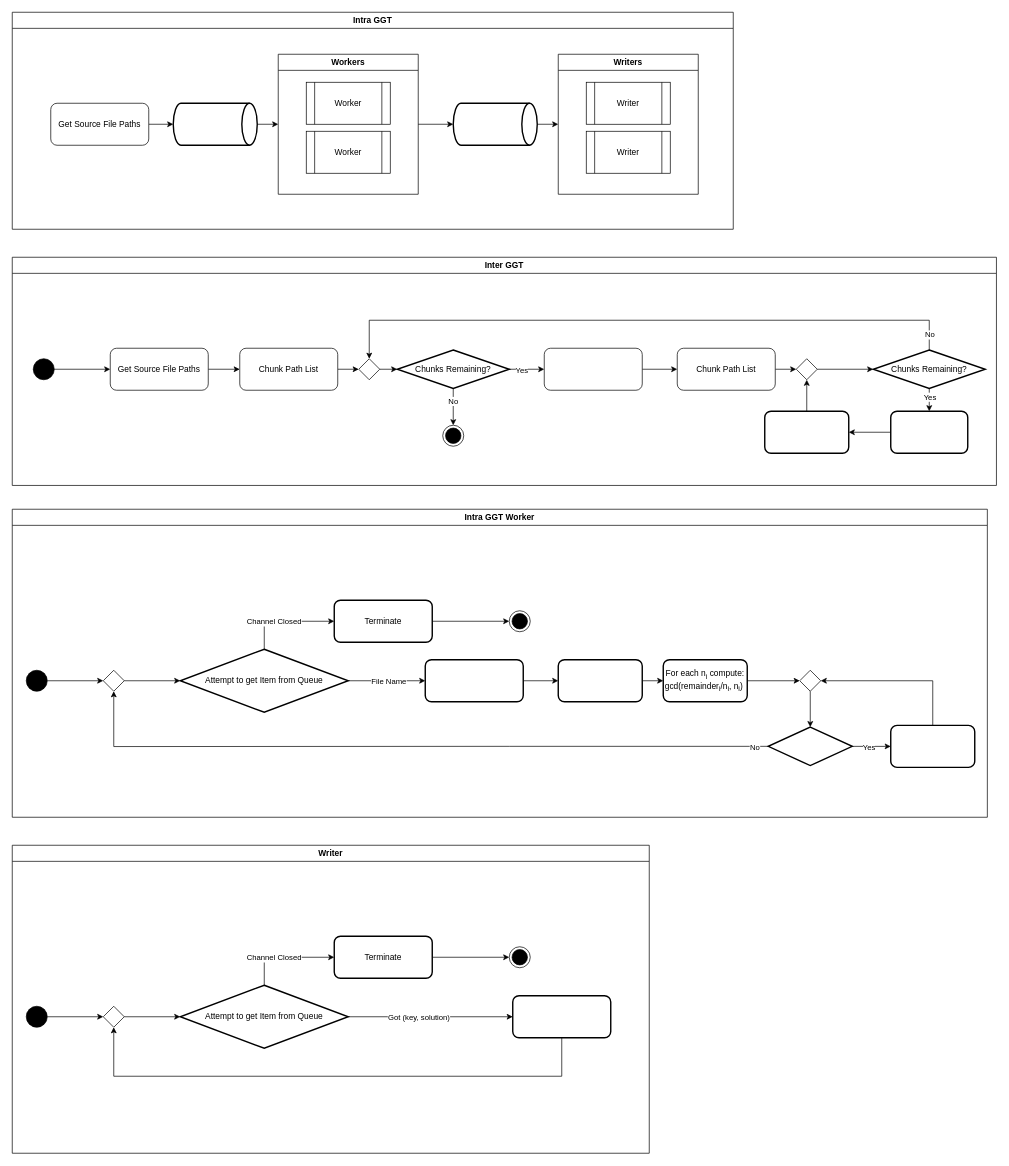
The diagram is 1009 pixels wide and 1166 high, and some of its shapes have lost their labels. Each missing label, with the centre of its shape:
"Build Product and Remainder Tree" goes at point (600, 680).
"File Queue" goes at point (215, 124).
"GCD each key with each Product" goes at point (806, 432).
"Load Chunk into Key List" goes at point (929, 432).
"Load Files into Products" goes at point (593, 369).
"Log result to DB" goes at point (561, 1016).
"More Successes?" goes at point (810, 746).
"Parse File into N's" goes at point (474, 680).
"Put Key, Solution into the Results Queue" goes at point (932, 746).
"Results Queue" goes at point (495, 124).
